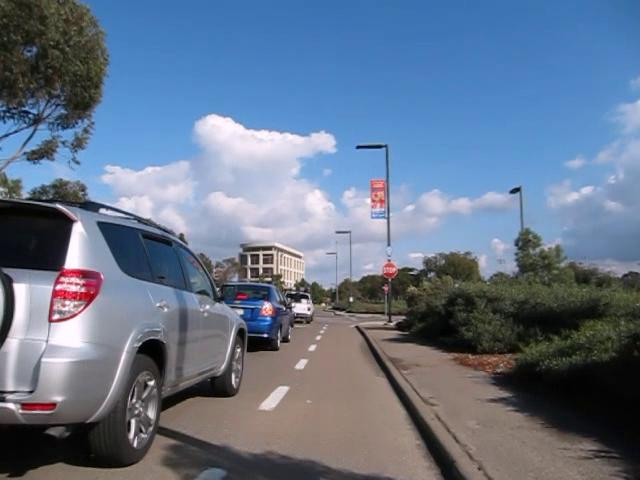stop: (381, 261, 397, 279)
